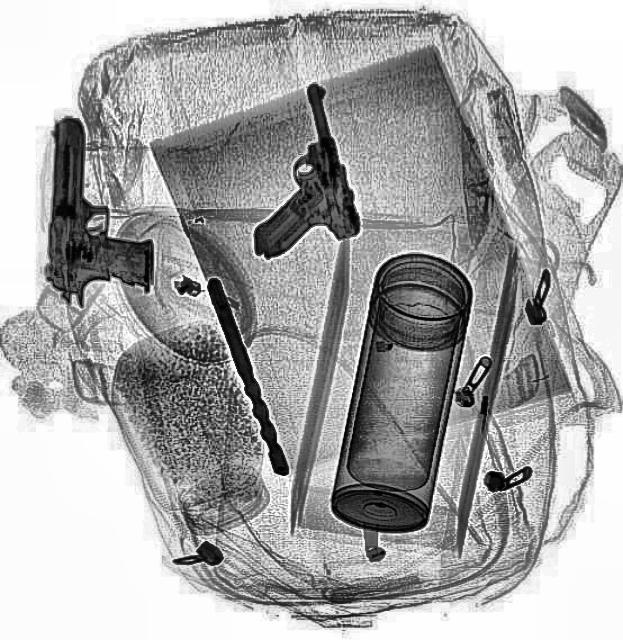Gun: (216, 79, 366, 264), (45, 115, 155, 307)
